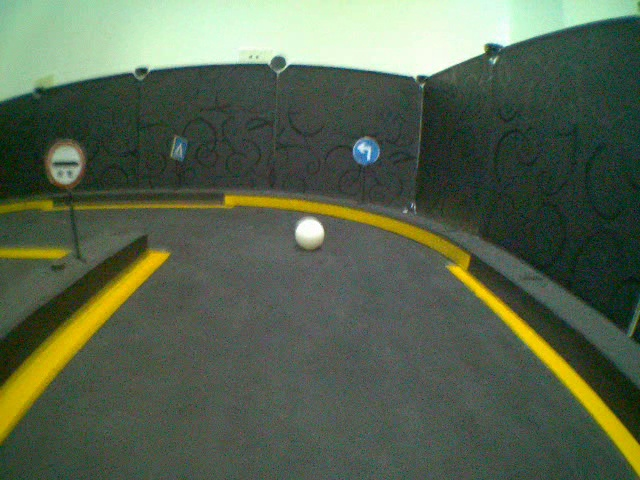ball: (291, 216, 325, 249)
